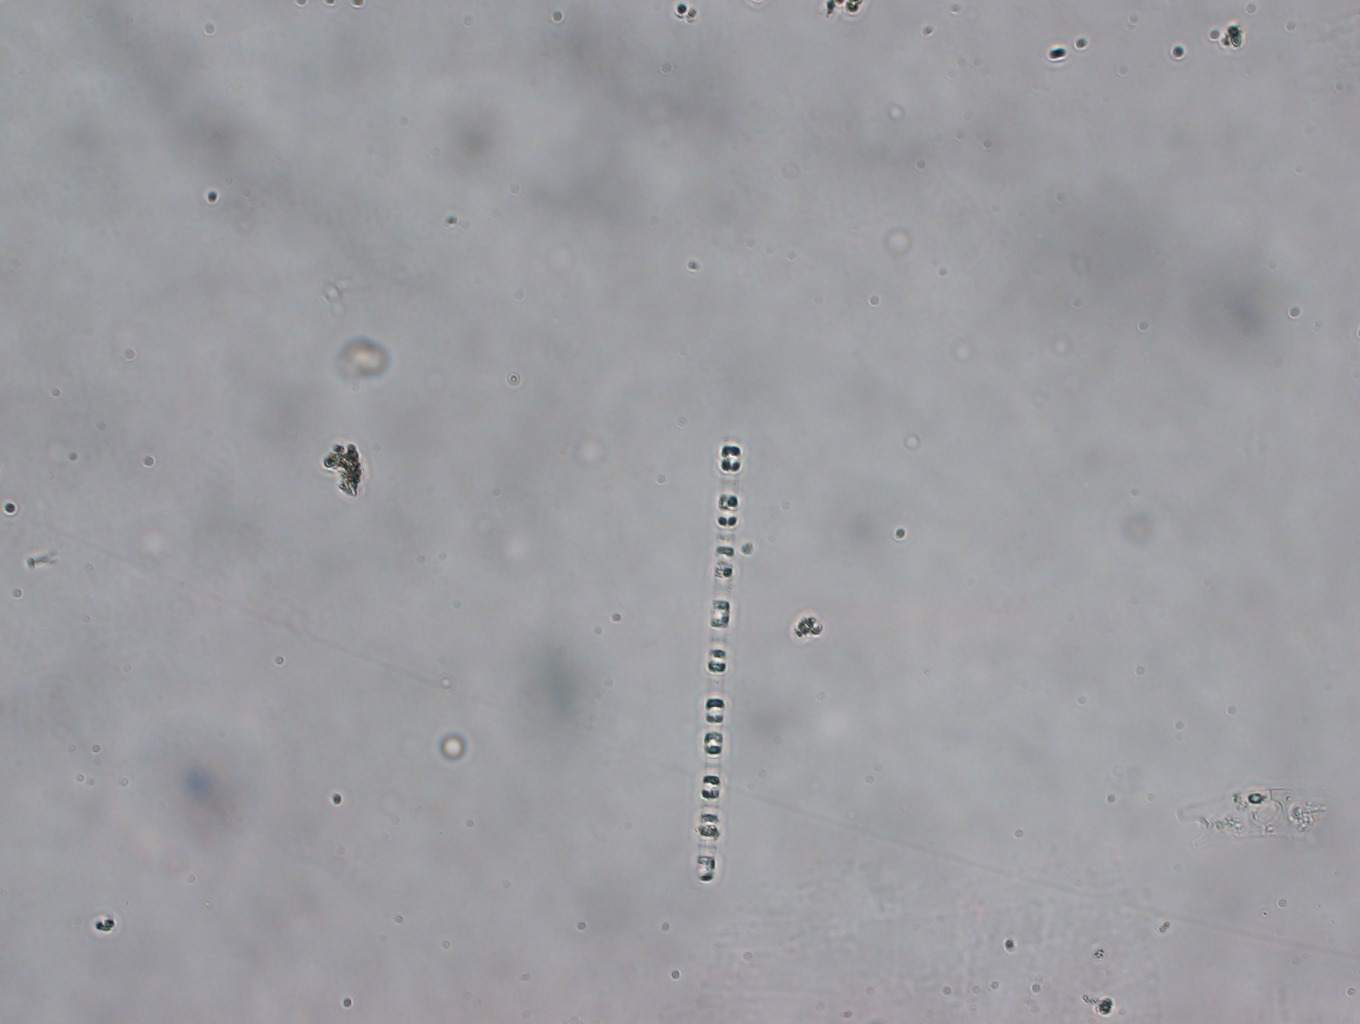skeletonema: (692, 442, 743, 881)
